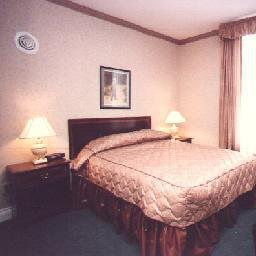Cama: (78, 127, 252, 244)
